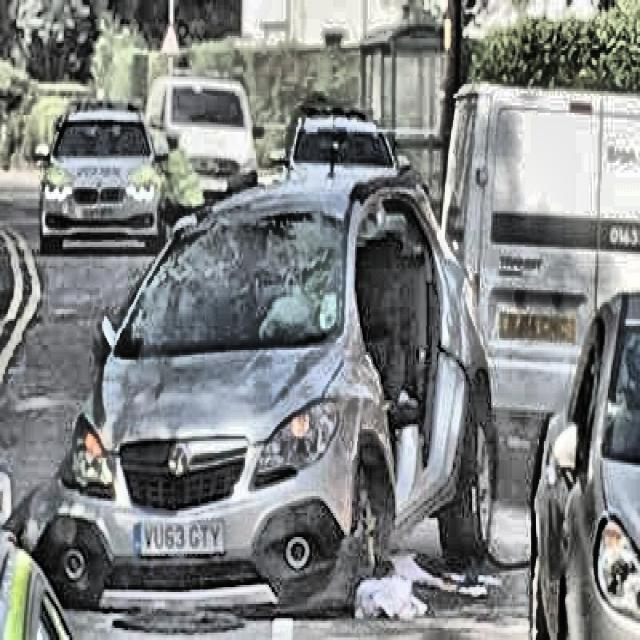license_plate: (132, 519, 224, 558), (501, 309, 579, 349), (80, 205, 117, 224)
